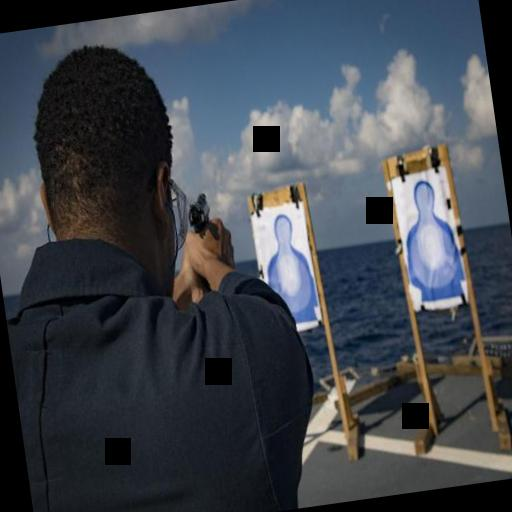Handgun: (180, 188, 216, 234)
